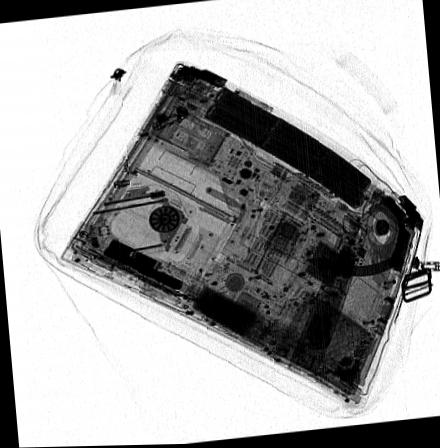Baton: (64, 221, 290, 355), (288, 233, 366, 378)
